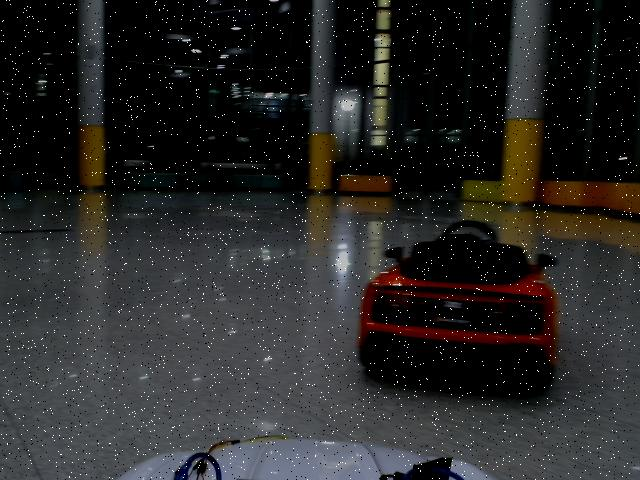car: (359, 221, 558, 388)
